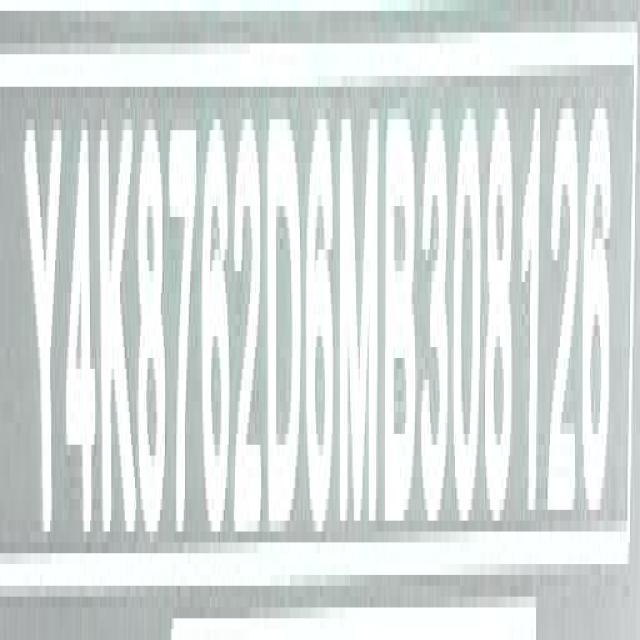0: (453, 97, 482, 527)
1: (168, 119, 200, 545), (519, 93, 543, 525)
2: (548, 90, 581, 520), (232, 107, 264, 538)
3: (420, 96, 452, 529)
4: (62, 112, 98, 547)
6: (304, 97, 338, 536), (583, 86, 618, 509), (202, 109, 236, 542)
8: (482, 89, 517, 521), (136, 113, 167, 544)
B: (385, 89, 421, 532)
D: (265, 101, 302, 546)
K: (98, 113, 138, 548)
M: (341, 122, 383, 536)
Y: (20, 92, 64, 562)
